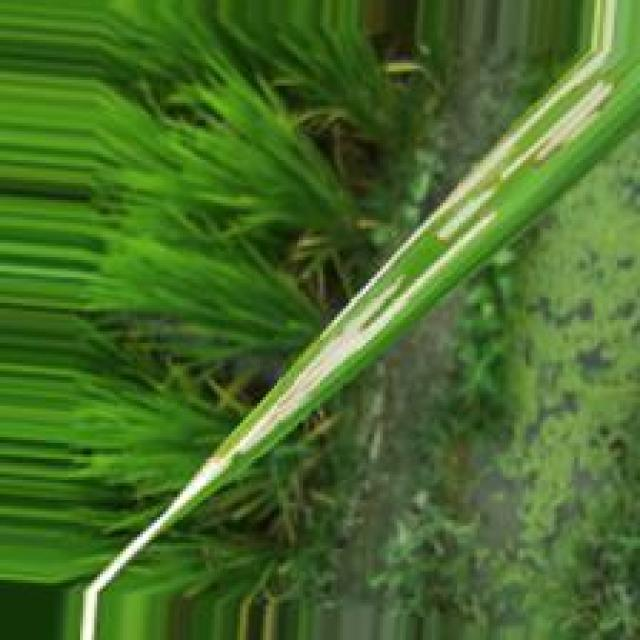Rice_Hispa: (78, 261, 404, 640)
